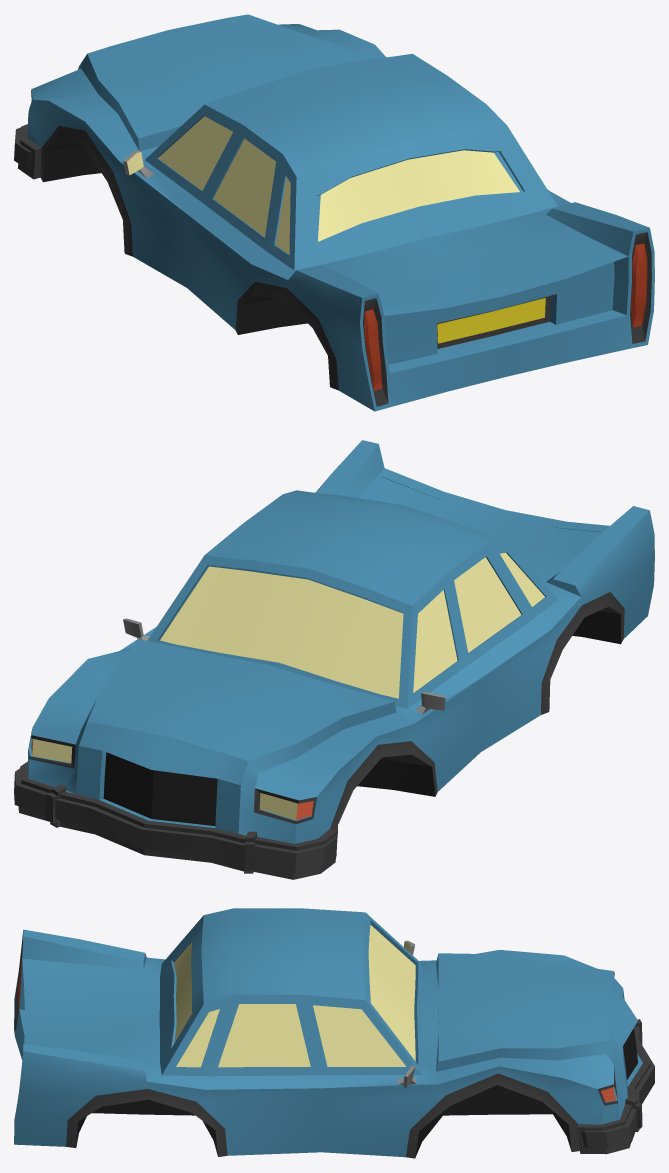
Rendered from american_body2.glb.
The picture shows the model from 3 angles, top to bottom: view 1: azimuth 30°, elevation 25°; view 2: azimuth 150°, elevation 25°; view 3: azimuth 270°, elevation 25°; orthographic projection. The views are drawn at different scales.
Parts seen in each view (by area): view 1: american_body; view 2: american_body; view 3: american_body.
Boxes of the visible parts, left/top/right/bottom form: american_body: left=14, top=14, right=654, bottom=411; american_body: left=14, top=440, right=654, bottom=879; american_body: left=14, top=908, right=654, bottom=1158.
Size of the model in its own units: 1.61 by 0.8293 by 3.2.
Materials: 1 (1 with a texture image).
